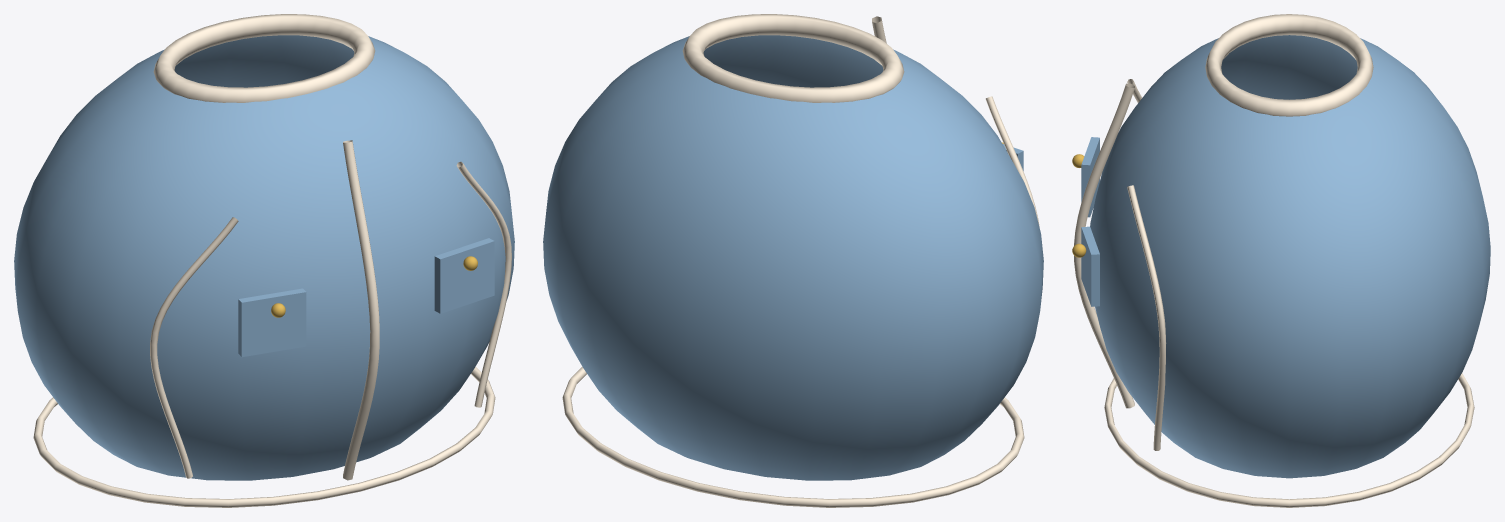
File: jacket_denim.glb
3 views of the same model, side by side, from view 1: azimuth 30°, elevation 25°; view 2: azimuth 150°, elevation 25°; view 3: azimuth 270°, elevation 25° (orthographic). The views are drawn at different scales.
Parts seen in each view (by area): view 1: Chaqueta denim; view 2: Chaqueta denim; view 3: Chaqueta denim.
Boxes of the visible parts, x1=… form: Chaqueta denim: x1=14, y1=14, x2=514, y2=507; Chaqueta denim: x1=543, y1=14, x2=1043, y2=507; Chaqueta denim: x1=1072, y1=14, x2=1490, y2=507.
Bounding box in the file's own units: 0.5698 × 0.4397 × 0.4739.
